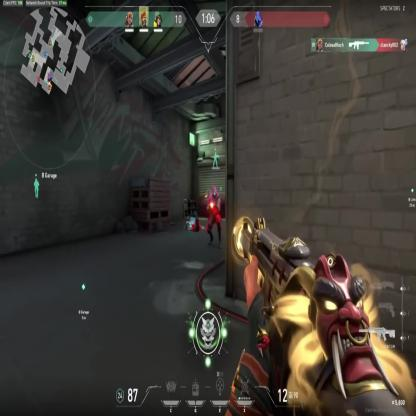enemy: (206, 183, 222, 250)
enemy_head: (212, 187, 218, 198)
